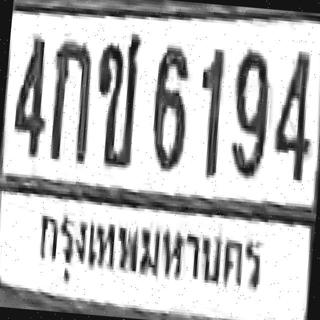A01: (46, 38, 94, 161)
A10: (89, 29, 141, 165)
N01: (193, 46, 226, 176)
N04: (270, 47, 318, 181), (10, 31, 52, 156)
N06: (147, 41, 193, 170)
N09: (227, 46, 273, 177)
P04: (29, 201, 267, 302)
